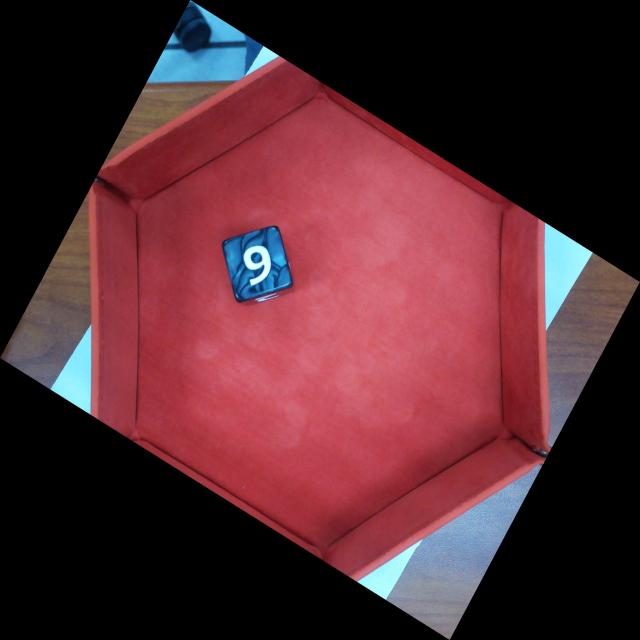dice: (221, 223, 296, 304)
